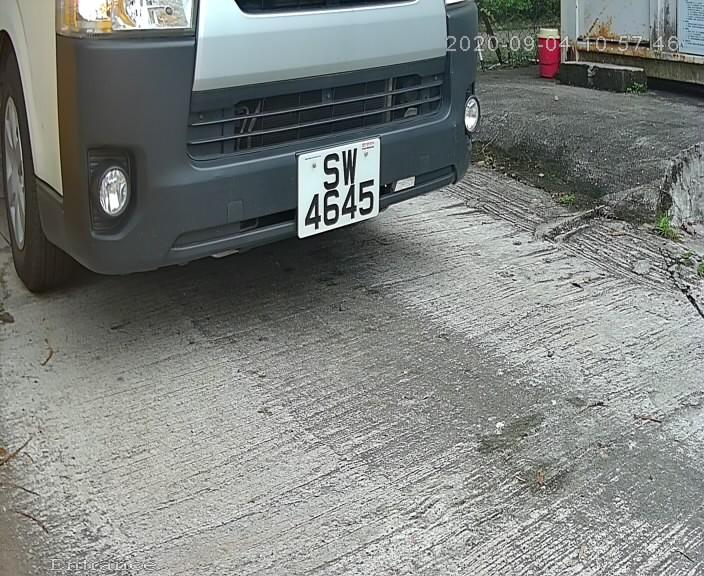License Plate: (290, 137, 387, 240)
